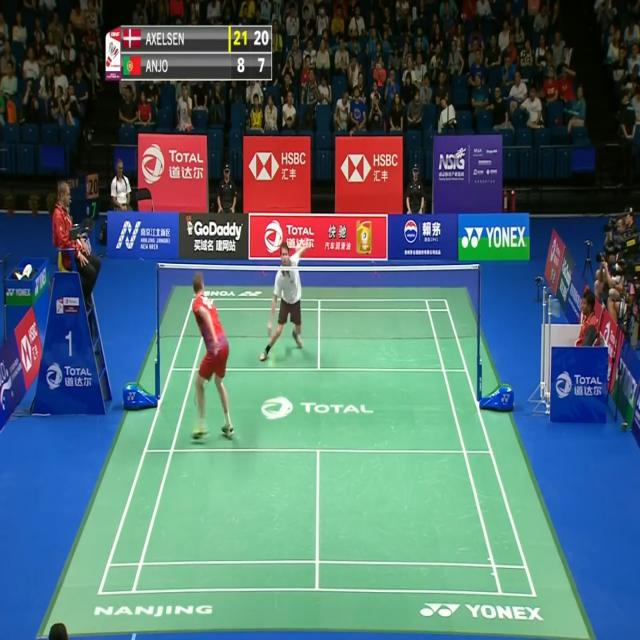Player1: (185, 268, 239, 452)
Player2: (258, 235, 312, 364)
